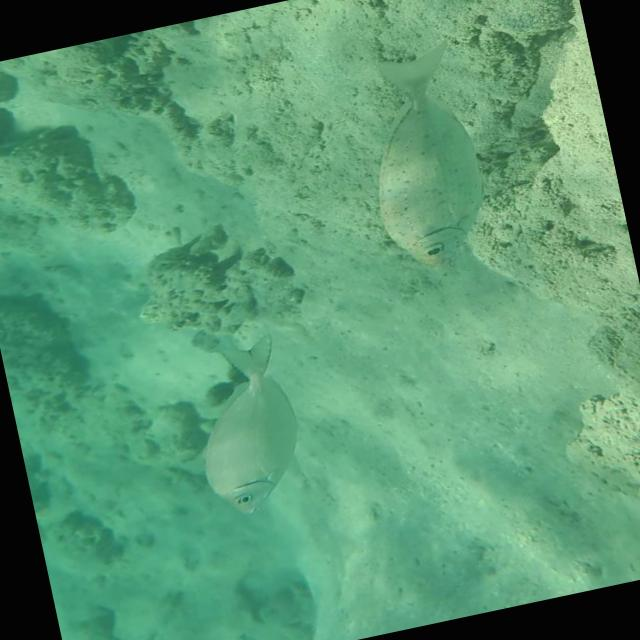Sokar Baligi: (334, 27, 530, 286), (166, 319, 328, 532)
